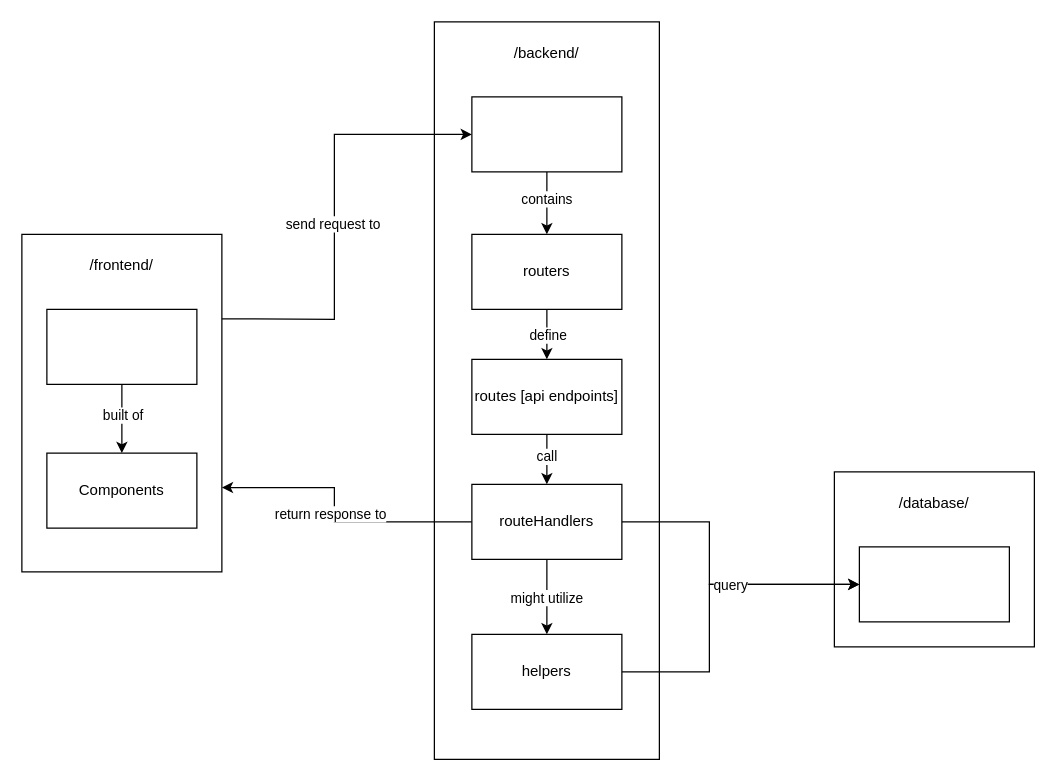
This 1056x781 diagram has some shape labels left out. Each missing label, with the box of its shape:
Pages: (46, 308, 197, 384)
server: (471, 96, 622, 172)
student_groups_db: (858, 546, 1009, 622)
